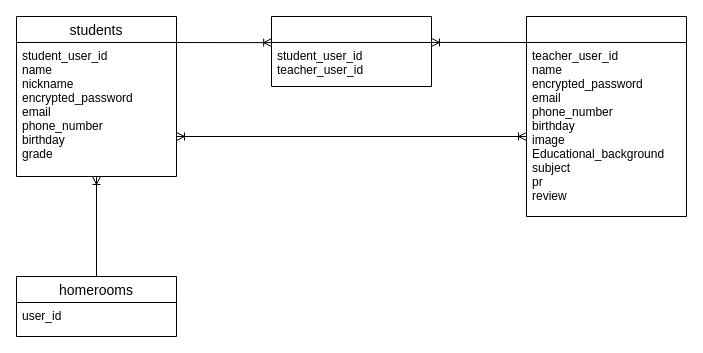
This 703x353 diagram has some shape labels left out. The shapes that lost their labels are listed below. From the top down, each one's box as (x1, y1, x2, y2) in pixels, then its label:
(270, 16, 432, 86): classrooms
(526, 16, 686, 216): teachers
